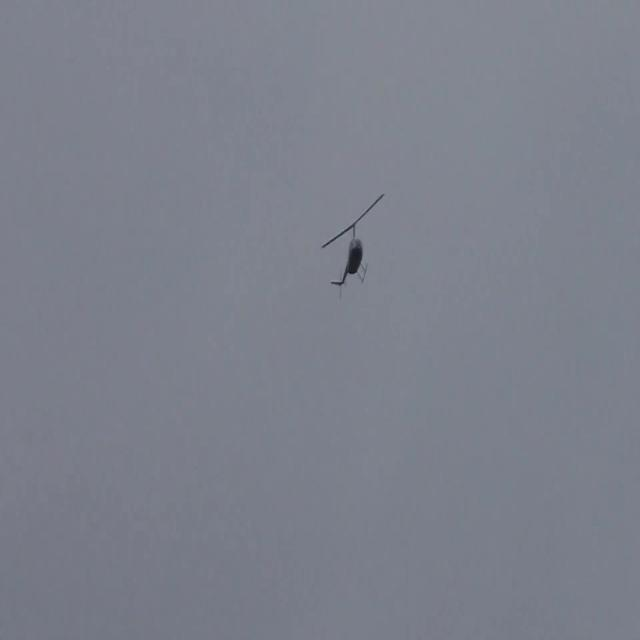CIV_HELO: (331, 219, 368, 286)
